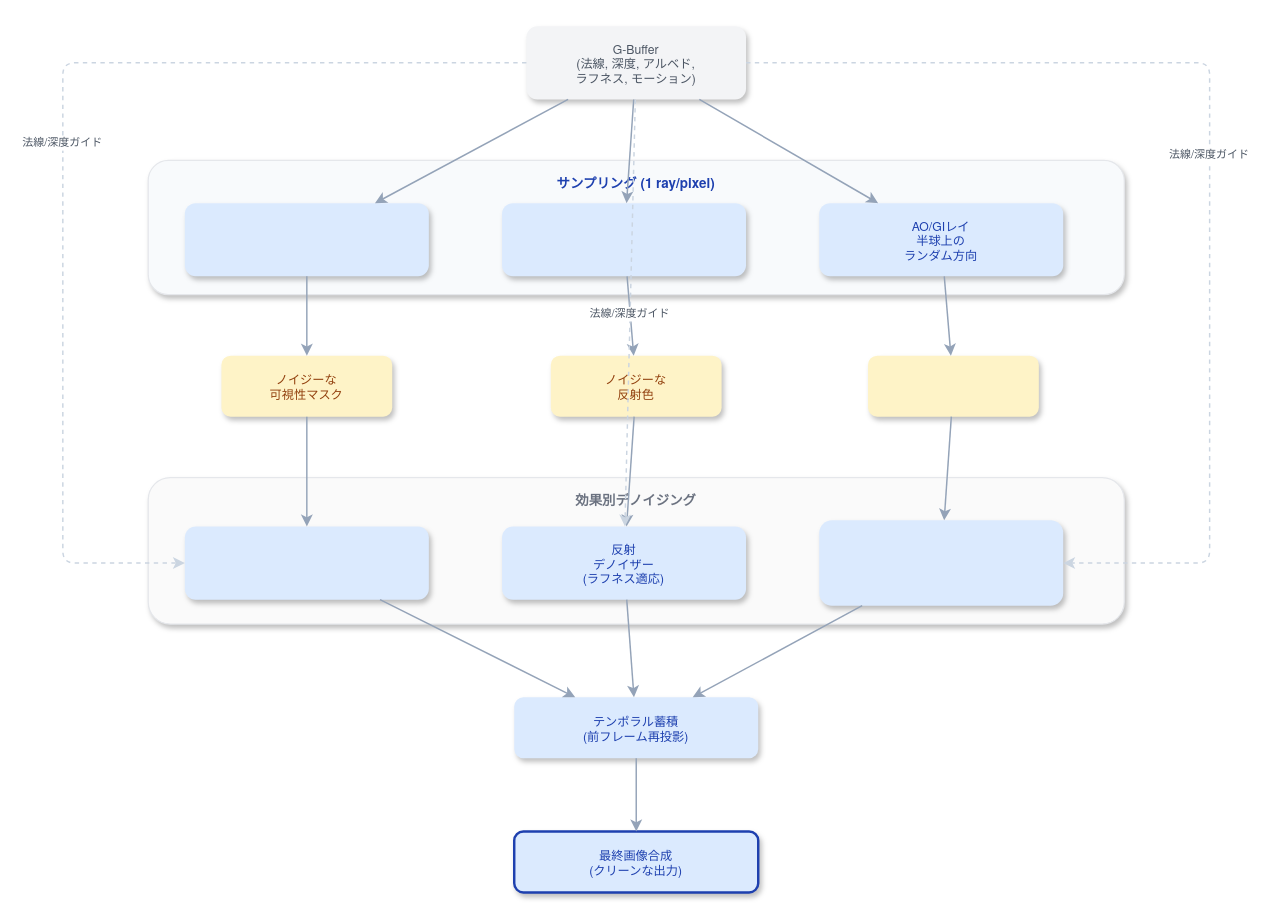
Image size: 1271x922. Some labels were removed from this diagram. The centre of each missing label's shape, as x and y in pixels:
"AO/GI デノイザー (ヒット距離適応 ワールドスペース)" belongs at (x=942, y=564).
"シャドウ デノイザー (時空間フィルタ)" belongs at (x=307, y=564).
"シャドウレイ エリアライト上の ランダム点に向けて1本" belongs at (x=307, y=241).
"ノイジーな AO/GI値" belongs at (x=954, y=387).
"反射レイ BRDF重要度 サンプリング" belongs at (x=625, y=241).
